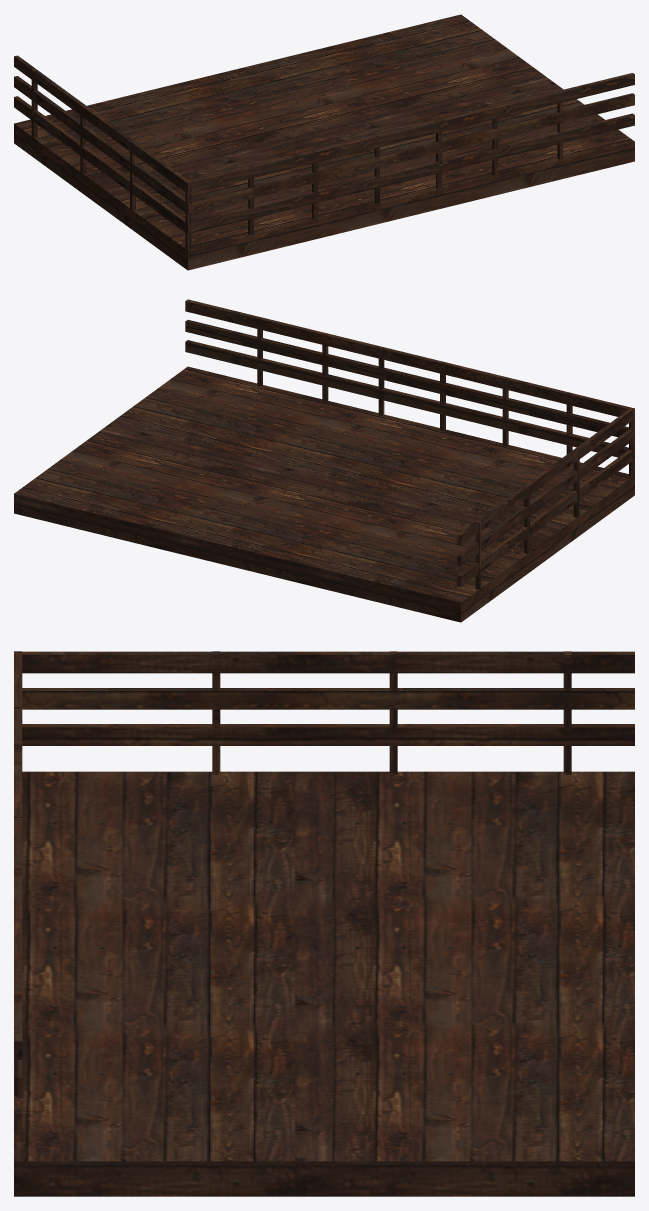
Rendered from balcon.FBX.
3 renders of one model, top to bottom at view 1: azimuth 30°, elevation 25°; view 2: azimuth 150°, elevation 25°; view 3: azimuth 270°, elevation 25°, orthographic. The views are drawn at different scales.
Visible parts, largest first — view 1: Balcon; view 2: Balcon; view 3: Balcon.
Part boxes in pixels (bbox=[...]): Balcon: bbox=[14, 14, 634, 270]; Balcon: bbox=[14, 299, 634, 622]; Balcon: bbox=[14, 651, 634, 1196].
Size of the model in its own units: 113 by 20.93 by 75.79.
1 material, 1 textured.
